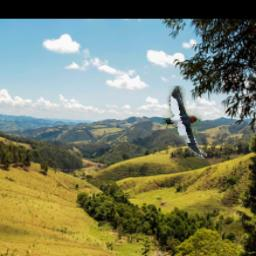Woodpecker: (162, 86, 207, 159)
